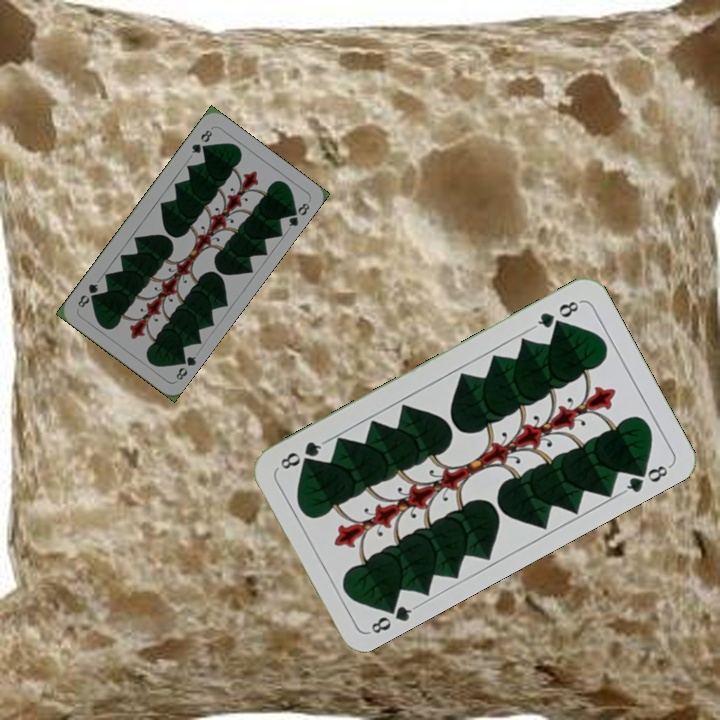G8: (365, 596, 420, 637), (529, 297, 584, 332), (187, 125, 215, 156), (172, 351, 199, 383)
